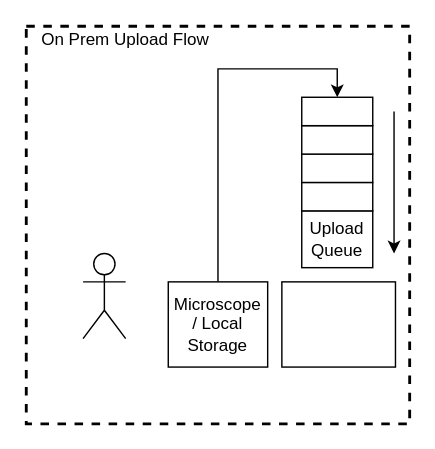
This 435x449 diagram has some shape labels left out. The box of each missing label's shape, as (x1, y1, x2, y2) in pixels:
Enable Scientist: (82, 252, 126, 339)
Uploader: (280, 280, 395, 367)
